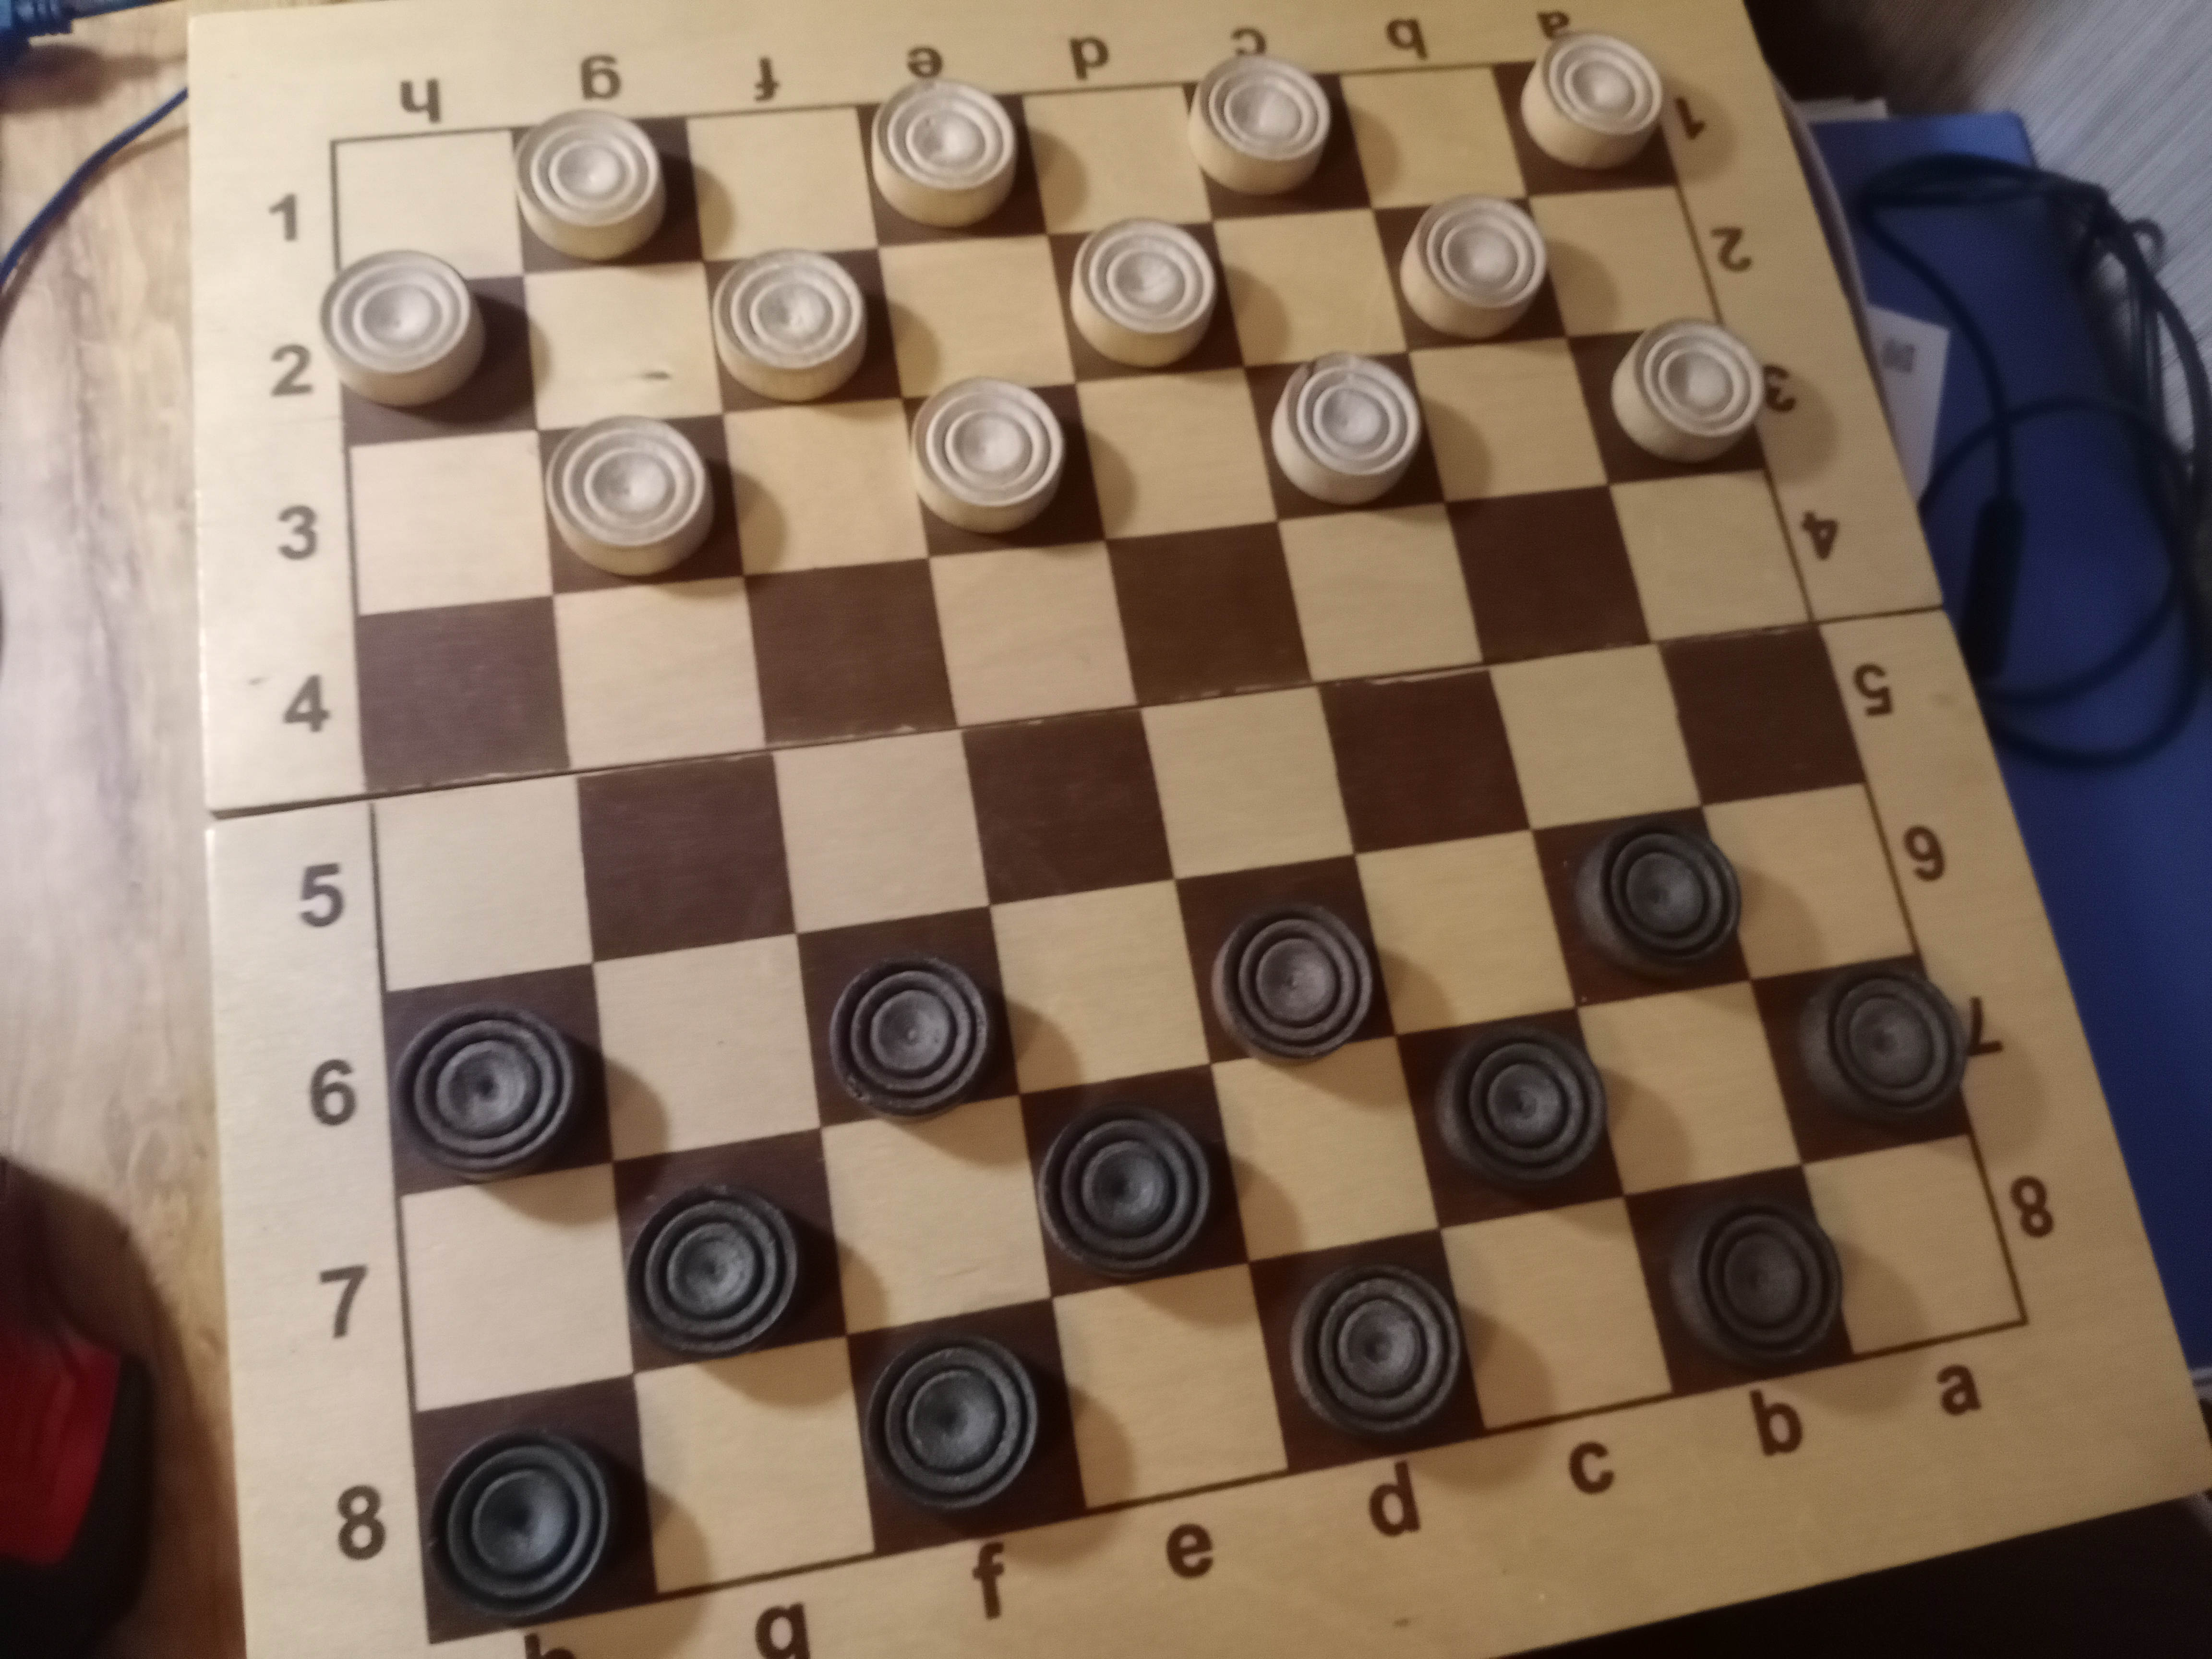White_Draught: (317, 249, 536, 450), (536, 413, 744, 596), (900, 376, 1104, 558), (1244, 352, 1444, 521), (1566, 317, 1766, 484), (702, 247, 902, 413), (855, 78, 1049, 247), (1049, 218, 1244, 383), (1181, 54, 1372, 221), (512, 110, 702, 275), (1489, 31, 1676, 197), (1372, 195, 1566, 350)
